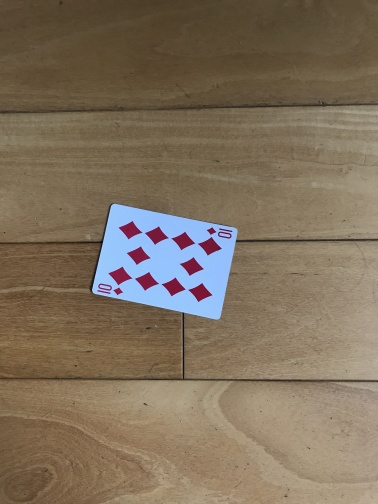ten: (90, 203, 241, 322)
